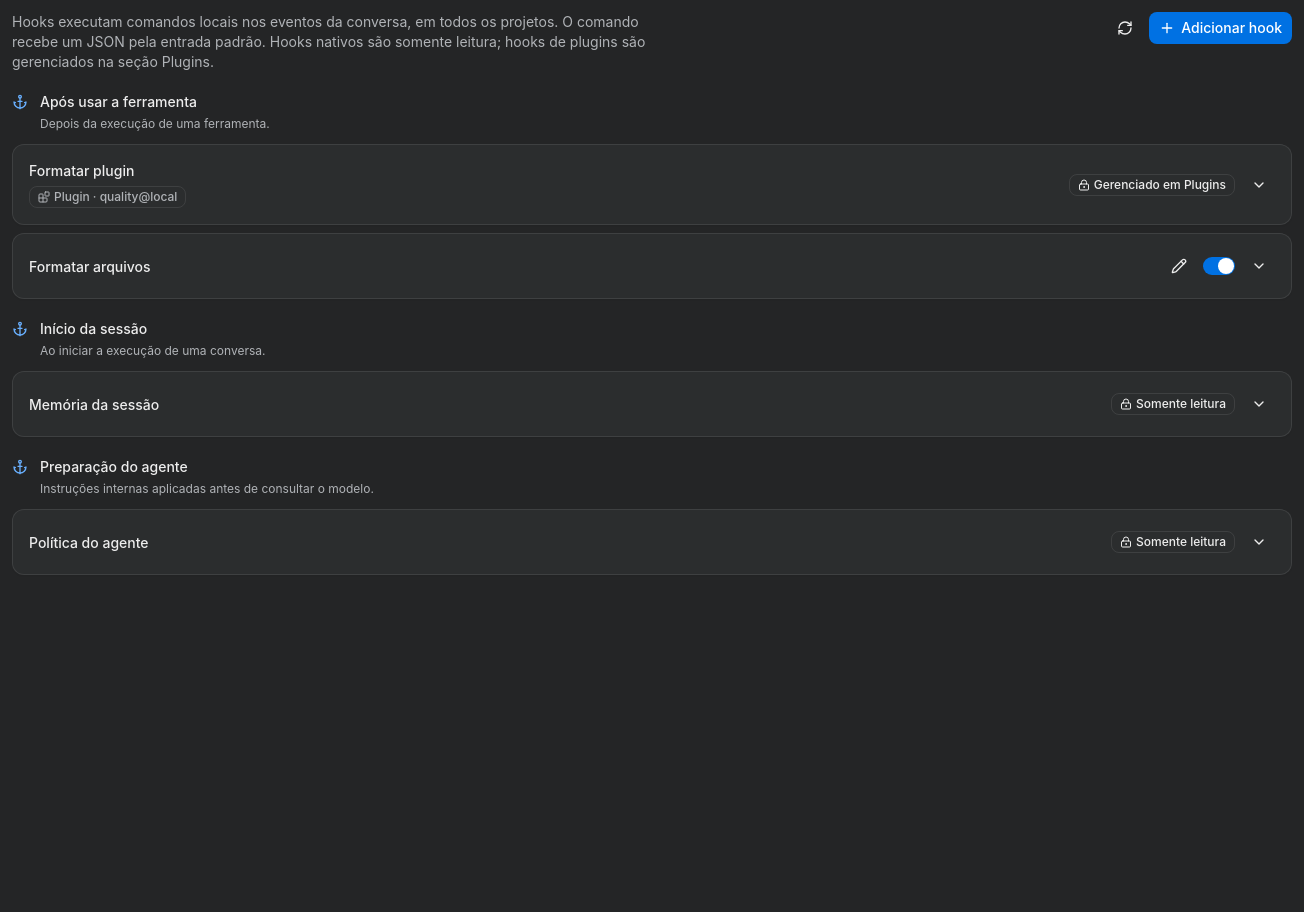
Test: HooksSettings › shows plugin hooks with their origin and manages removal through the plugin
Expected: the text "Plugin · quality@local" is shown, [54,189,177,205]
Expected: the text "Gerenciado em Plugins" is shown, [1069,174,1235,196]
Click the button named "Detalhes do hook Formatar plugin" at {"x": 1259, "y": 185}, box [1243,169,1275,201]
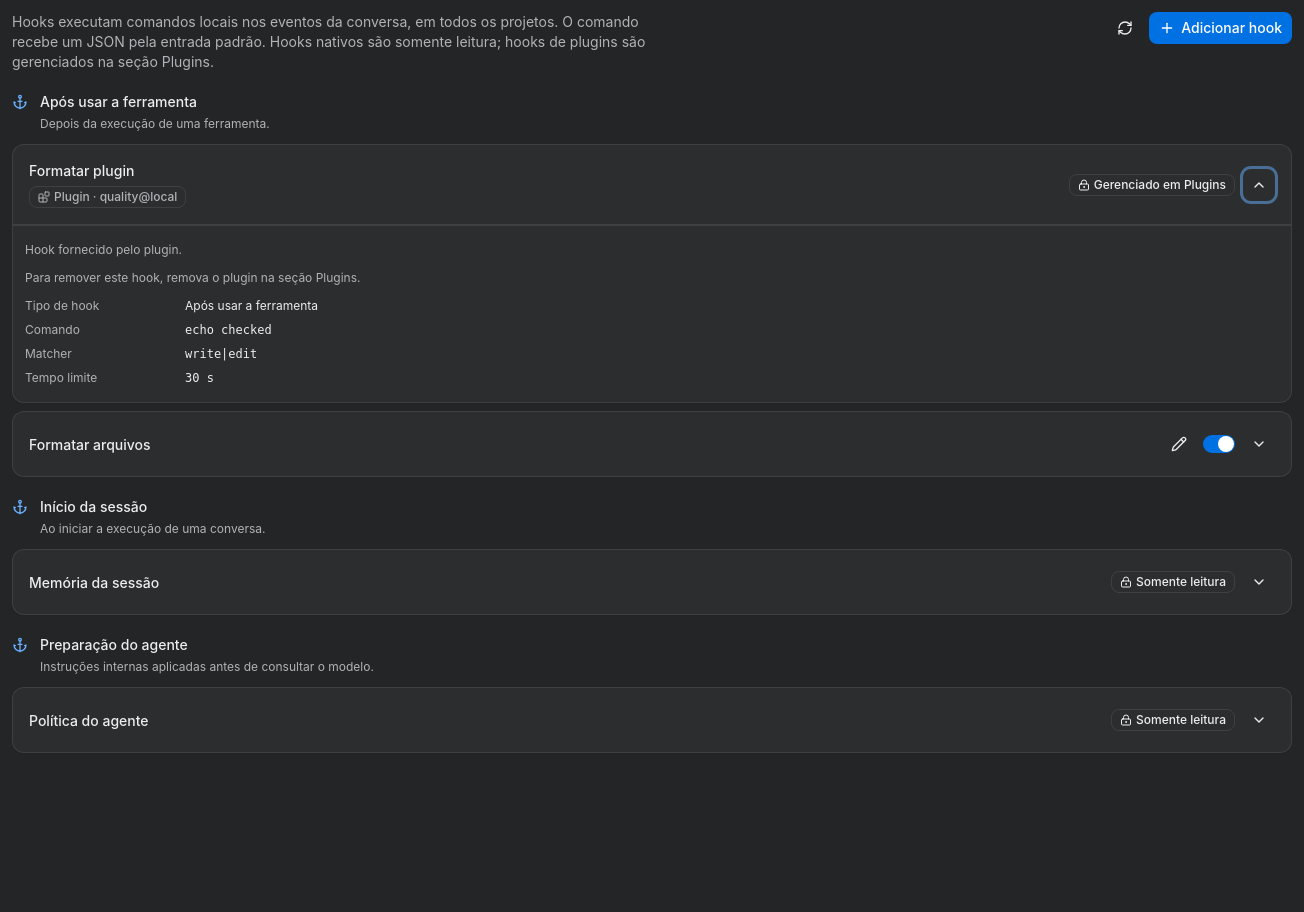
Now the text "echo checked" is shown, box [185,323,272,337]
Now the text "Para remover este hook, remova o plugin na seção Plugins." is shown, box [25,270,360,285]
